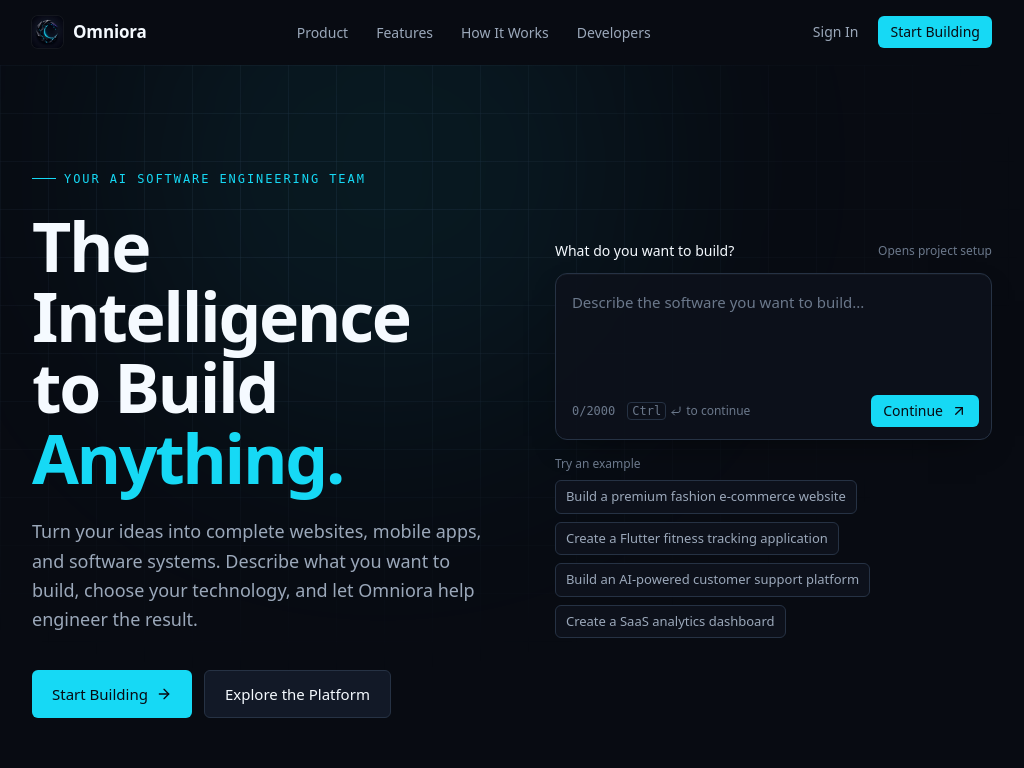
Test: Landing prompt → wizard › validates an empty prompt instead of navigating
Step 1. Click the button with aria-label "Continue to project setup" → coordinates (925, 411), box [871, 395, 979, 427]
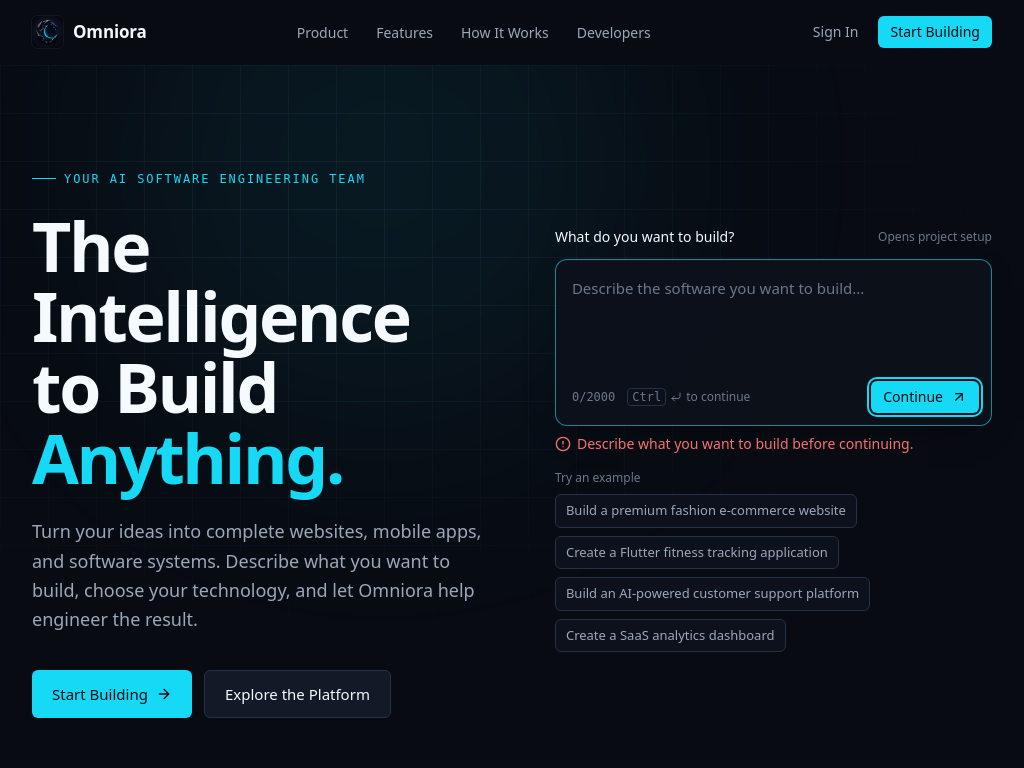
Now the message shows "Describe what you want to build", box [577, 434, 914, 453]
